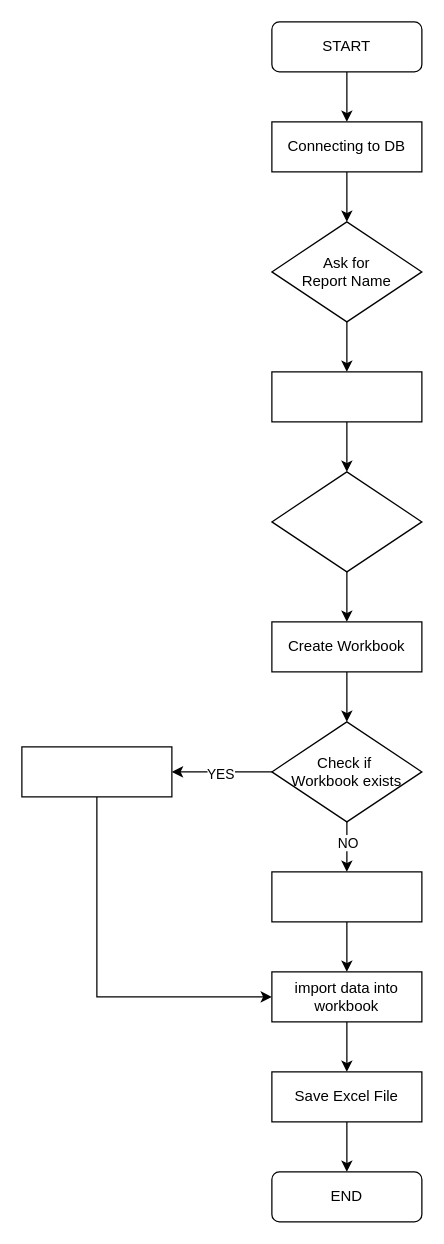
Image size: 444x1244. Some labels were removed from this diagram. Each missing label, with the centre of its shape:
Ask for File Name: pixel 346 521
Create New Workbook: pixel 346 896
Execute SQL Query: pixel 346 396
Read Existing Workbook: pixel 96 771
